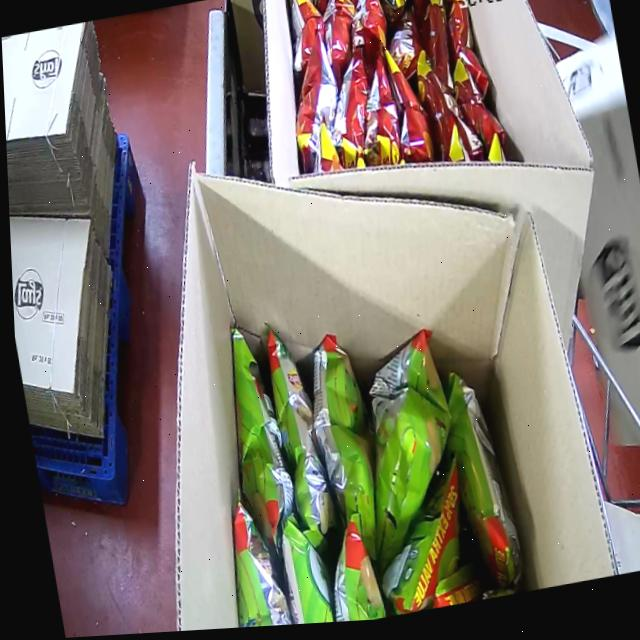MASALA: (269, 0, 508, 182)
YOGURT_HERB: (173, 295, 531, 631)
